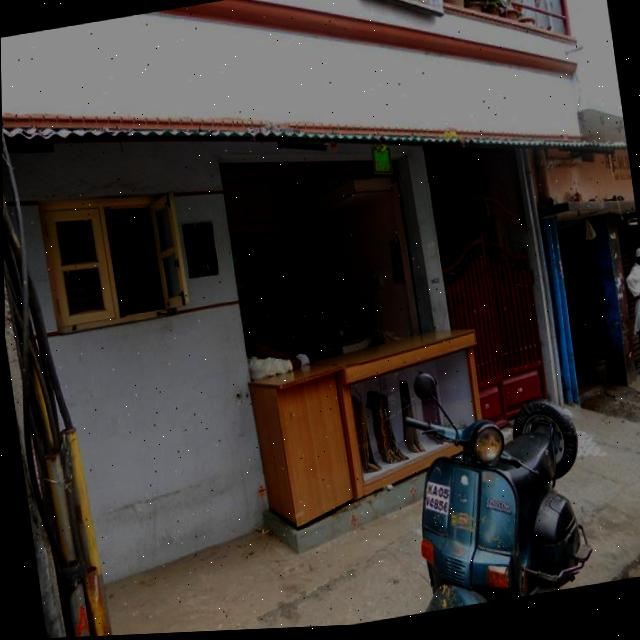motorcycle: (387, 345, 611, 615)
